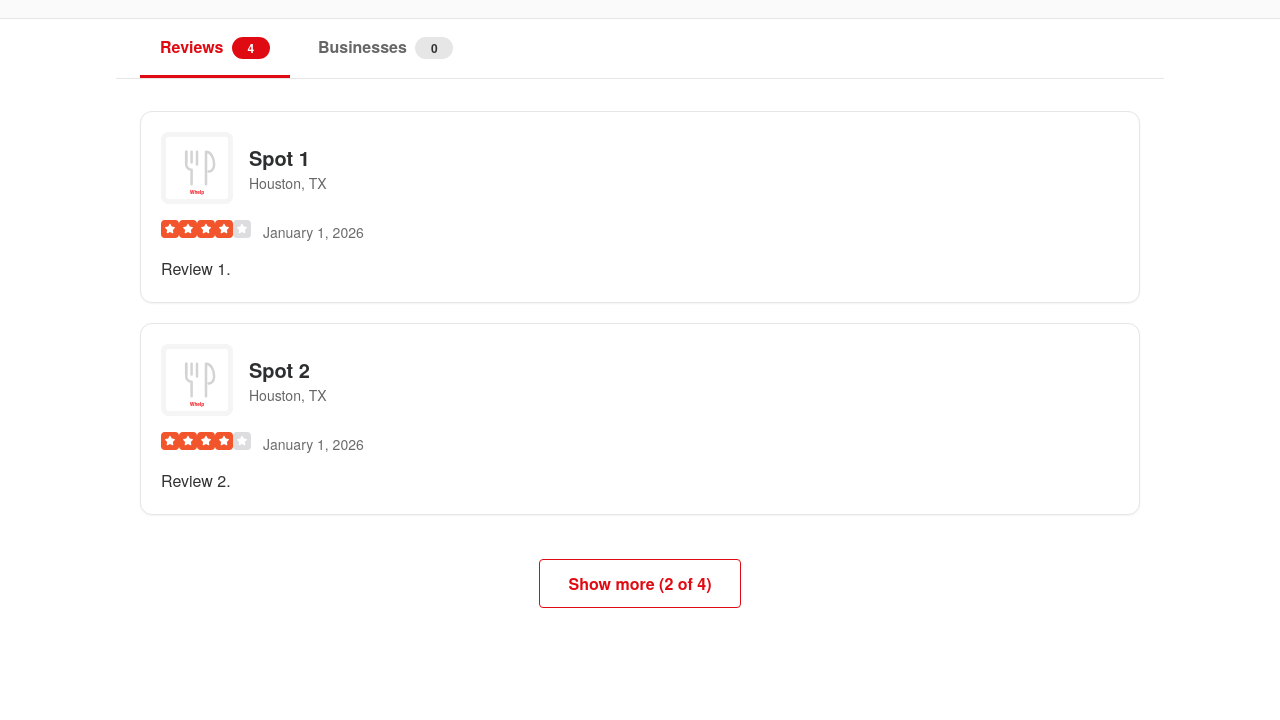
Test: a page that arrives after you've gone to another profile isn't added to it
(page scrolled)
Click the button "Show more (2 of 4)": (640,584) x1=540 y1=559 x2=741 y2=608
(page scrolled)
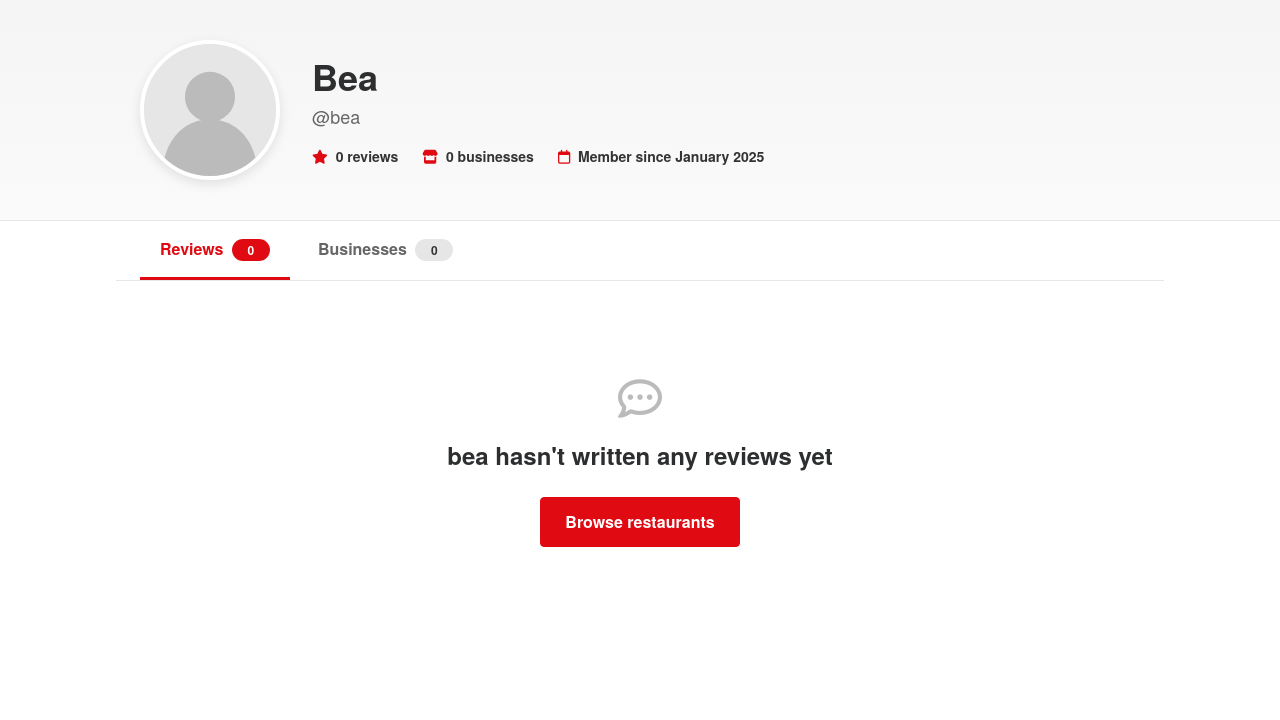
Result: the heading "Bea" is shown at x1=312 y1=50 x2=378 y2=102
